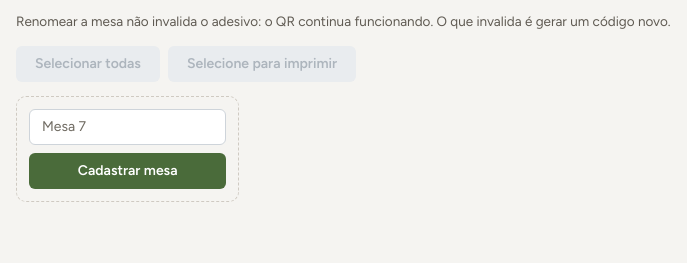
Test: tela de mesas › rótulo repetido mostra o 409 da API no cartão de cadastro
The image size is (687, 263).
In the field named "Rótulo da nova mesa": (128, 127) [29,109,226,145], type "mesa 1"
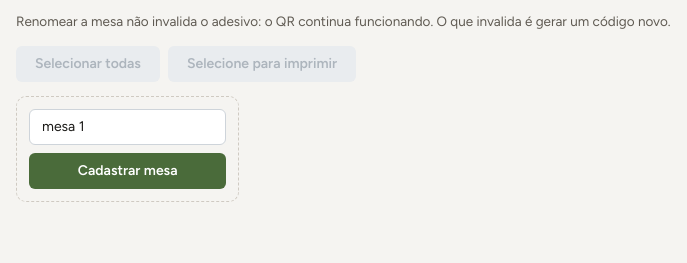
Click the button "Cadastrar mesa": (128, 171) [29,153,226,189]
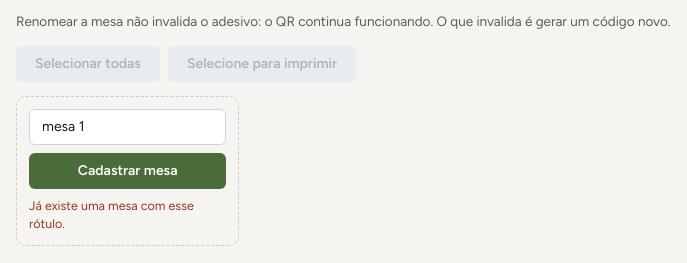
Expected: the message reads "Já existe uma mesa com esse rótulo.", [29,198,194,231]
